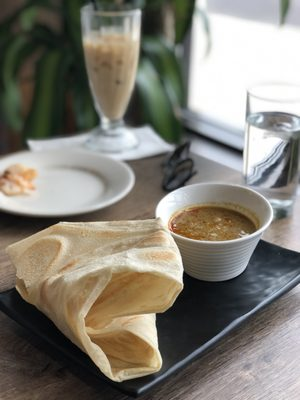pizza: (155, 182, 274, 282), (242, 82, 300, 217)
sushi: (156, 182, 275, 282)
